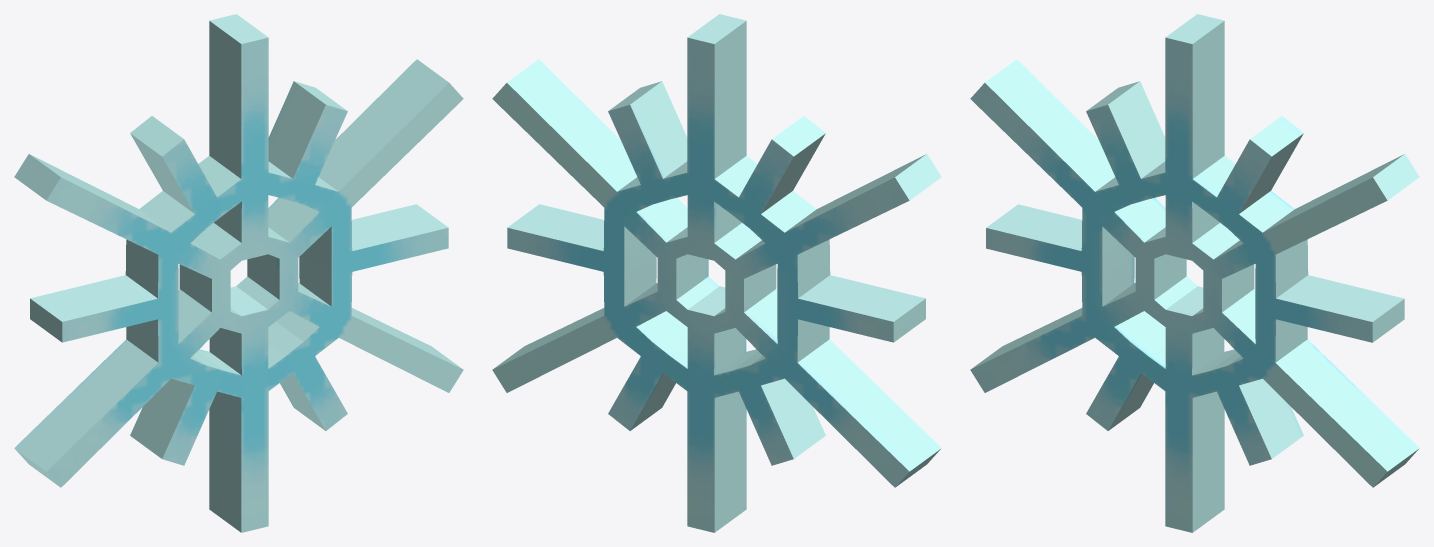
The model's file is FreezeParticle.fbx.
The picture shows the model from 3 angles, left to right: view 1: azimuth 30°, elevation 25°; view 2: azimuth 150°, elevation 25°; view 3: azimuth 330°, elevation 25°; orthographic projection.
Parts seen in each view (by area): view 1: FreezeParticle_Mesh; view 2: FreezeParticle_Mesh; view 3: FreezeParticle_Mesh.
Part boxes in pixels (x1,y1,x2,y2): FreezeParticle_Mesh: [14, 14, 463, 532]; FreezeParticle_Mesh: [492, 14, 941, 532]; FreezeParticle_Mesh: [970, 14, 1419, 532].
Size of the model in its own units: 33.72 by 37.72 by 4.51.
